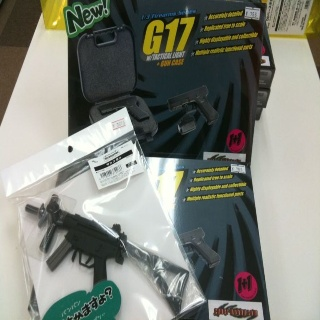rifle: (25, 194, 190, 315)
